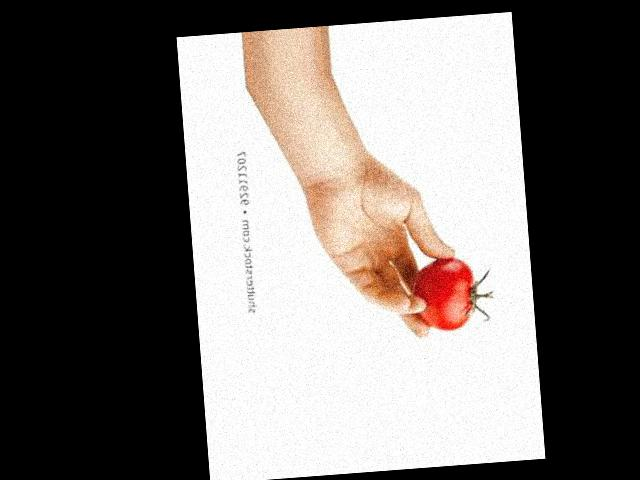tomato: (409, 255, 477, 333)
